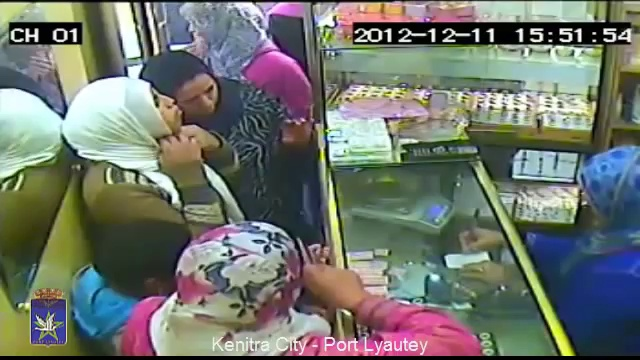face: (127, 84, 177, 134), (180, 74, 222, 114)
